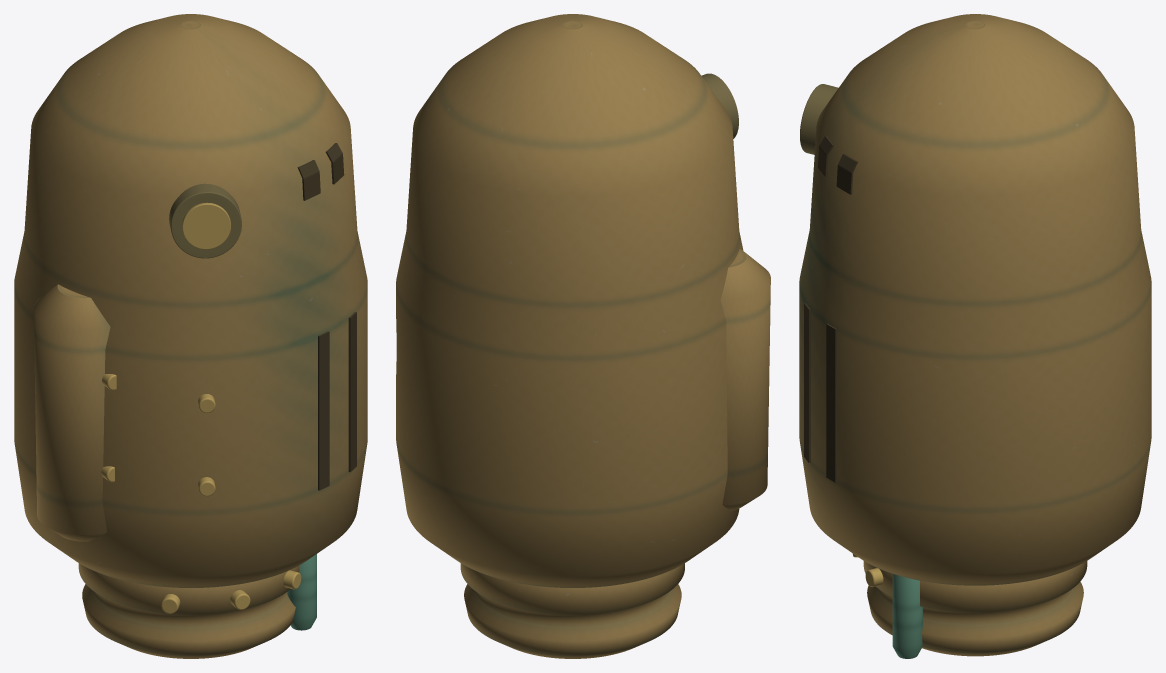
3 views of the same model, side by side, from view 1: azimuth 30°, elevation 25°; view 2: azimuth 150°, elevation 25°; view 3: azimuth 270°, elevation 25° (orthographic).
Parts seen in each view (by area): view 1: RI20 bronze main housing, RI20 bronze side module, RI20 lower stepped drum, RI20 upper round fitting bezel, RI20 lower dark inset 0, RI20 upper round fitting face, RI20 green lower fitting, RI20 lower dark inset 1, RI20 upper dark inset 0; view 2: RI20 bronze main housing, RI20 lower stepped drum, RI20 bronze side module, RI20 upper round fitting bezel; view 3: RI20 bronze main housing, RI20 lower stepped drum, RI20 green lower fitting, RI20 lower dark inset 1, RI20 upper round fitting bezel, RI20 lower dark inset 0, RI20 upper dark inset 1.
Boxes of the visible parts, x1,y1,x2,y2 form: RI20 bronze main housing: (14, 14, 367, 587); RI20 bronze side module: (33, 284, 110, 541); RI20 lower stepped drum: (78, 563, 299, 658); RI20 upper round fitting bezel: (169, 183, 241, 258); RI20 lower dark inset 0: (318, 331, 329, 490); RI20 upper round fitting face: (182, 202, 231, 249); RI20 green lower fitting: (287, 554, 316, 630); RI20 lower dark inset 1: (348, 312, 356, 472); RI20 upper dark inset 0: (297, 160, 320, 200); RI20 bronze main housing: (396, 14, 743, 587); RI20 lower stepped drum: (460, 563, 684, 658); RI20 bronze side module: (720, 249, 770, 510); RI20 upper round fitting bezel: (701, 73, 738, 138); RI20 bronze main housing: (799, 14, 1151, 585); RI20 lower stepped drum: (863, 561, 1087, 656); RI20 green lower fitting: (892, 574, 922, 658); RI20 lower dark inset 1: (826, 323, 836, 482); RI20 upper round fitting bezel: (800, 84, 838, 154); RI20 lower dark inset 0: (804, 303, 810, 462); RI20 upper dark inset 1: (836, 153, 857, 194).
Size of the model in its own units: 1.1 by 1.94 by 1.04.
Materials: 7 (4 with a texture image).
